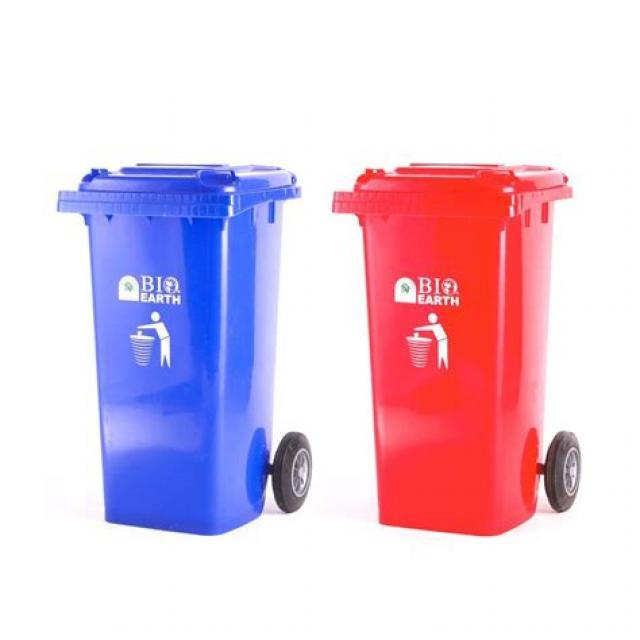garbage container: (52, 127, 326, 540), (338, 145, 596, 537)
